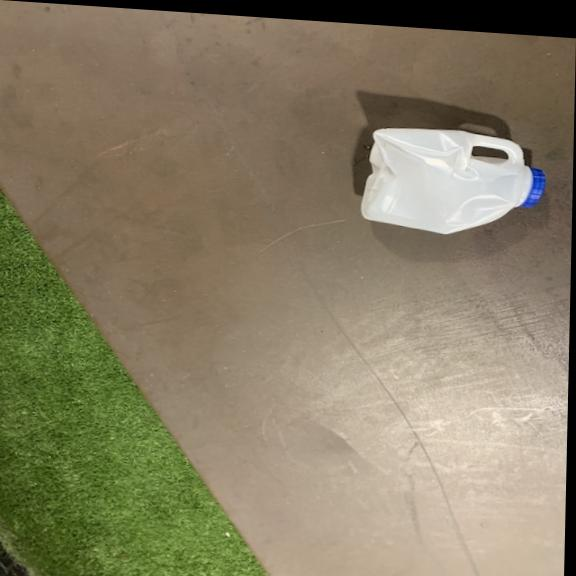Plastik: (355, 124, 548, 244)
